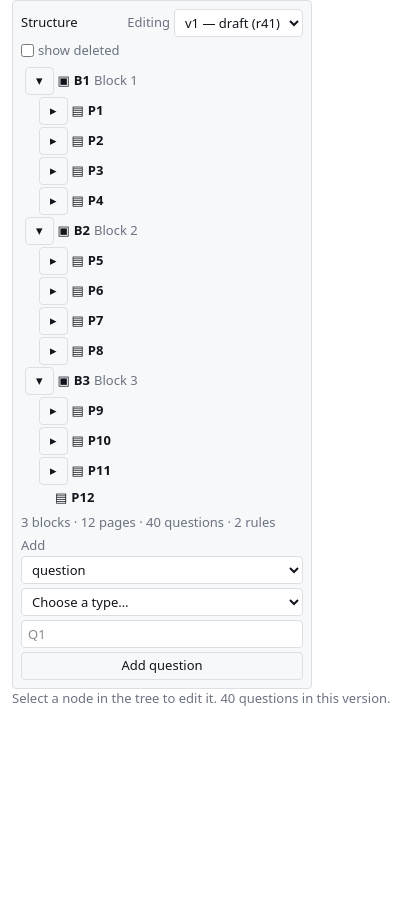
Scenario: SurveyTreePane — building the survey › adds a question next to the selection, in one request
The width and height of the screenshot is (407, 900).
expect the element with test id "survey-tree" is shown: met, box top-left (25, 66), bottom-right (138, 506)
Click the button named "Expand P1": [53, 110] box top-left (39, 96), bottom-right (68, 124)
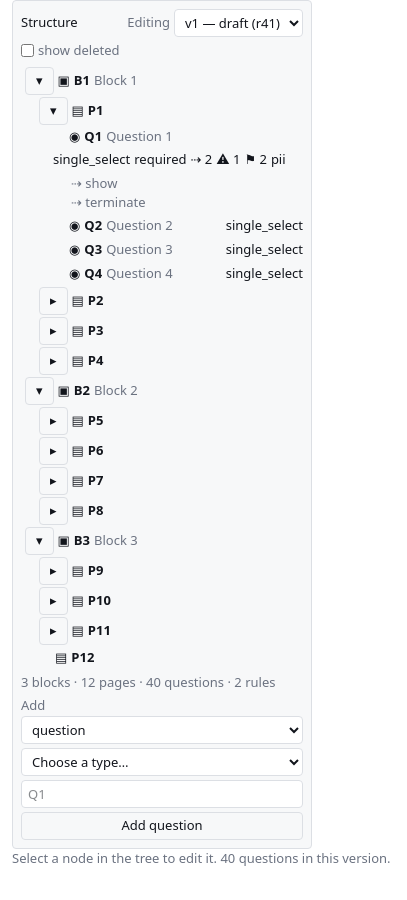
expect the list item with test id "tree-row-qst_1" is shown: met
Click the list item with test id "tree-row-qst_1": [169, 169] box top-left (53, 126), bottom-right (286, 211)
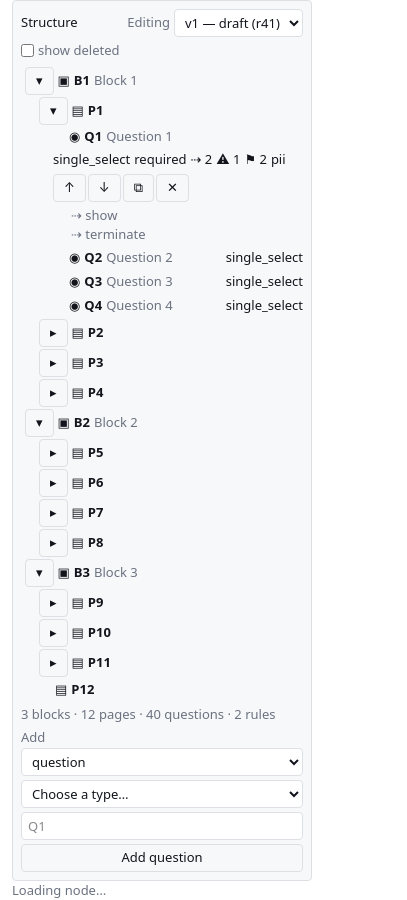
Select "question" in the dropdown with test id "add-kind": [162, 762] box top-left (21, 748), bottom-right (303, 776)
Select "◑ Nps" in the dropdown with test id "add-type": [162, 794] box top-left (21, 780), bottom-right (303, 808)
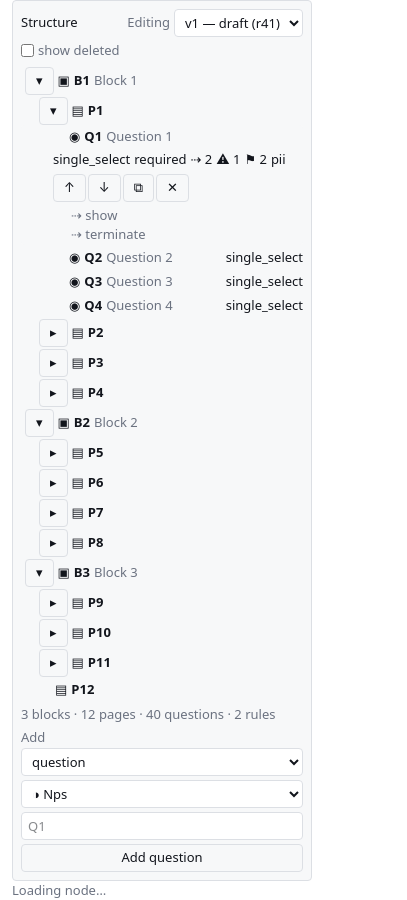
In the field with test id "add-ref": [162, 826] box top-left (21, 812), bottom-right (303, 840), type "Q41"
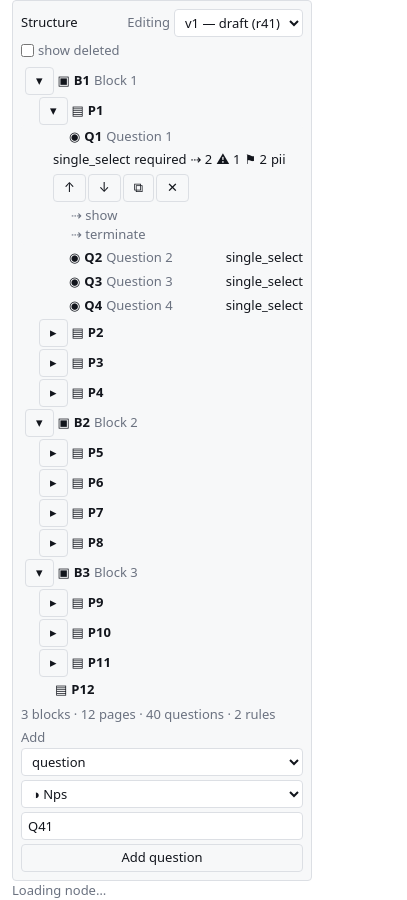
Click the button with test id "add-node": [162, 858] box top-left (21, 844), bottom-right (303, 872)
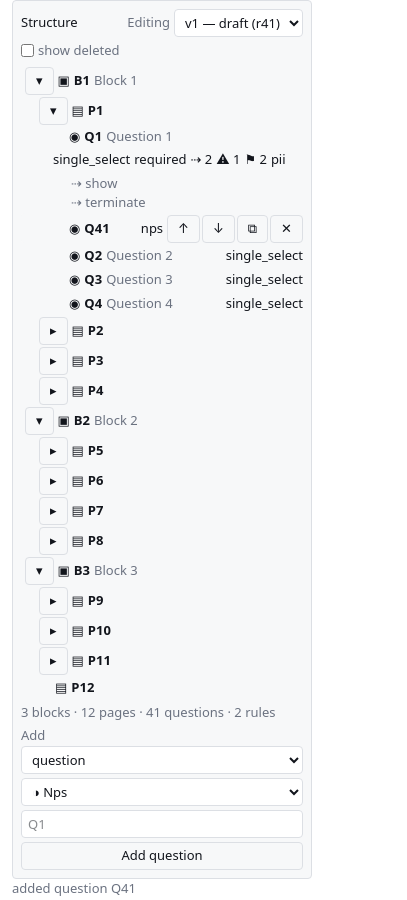
expect the text with test id "tree-ref-qst_41" reads "Q41": met, box top-left (84, 219), bottom-right (110, 237)
